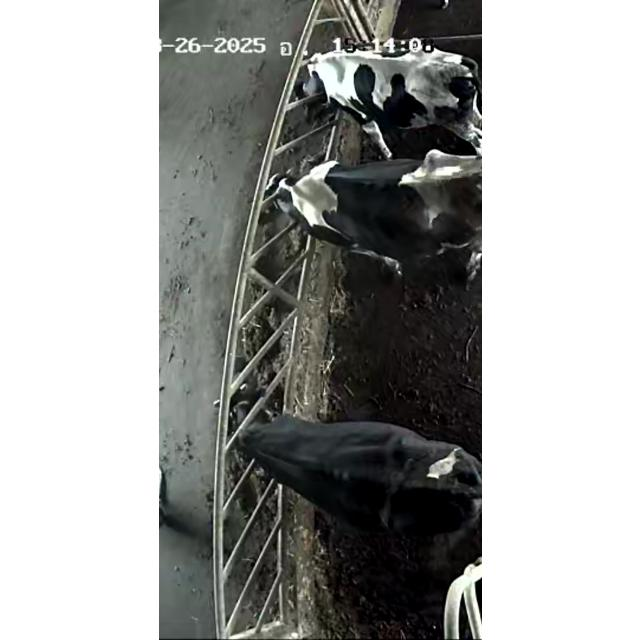eat: (188, 354, 350, 500), (232, 144, 386, 260), (257, 36, 387, 128)
